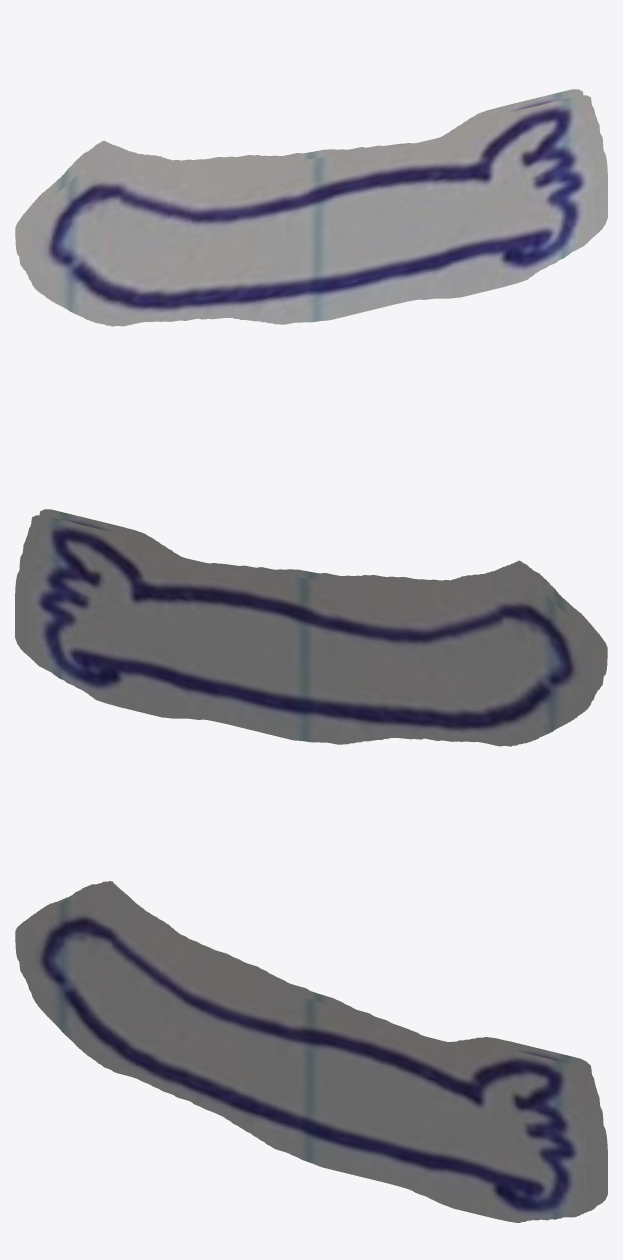
Rendered from arm.fbx.
3 views of the same model, one above another, from view 1: azimuth 30°, elevation 25°; view 2: azimuth 150°, elevation 25°; view 3: azimuth 330°, elevation 25° (orthographic).
Parts seen in each view (by area): view 1: Plane; view 2: Plane; view 3: Plane.
Part boxes in pixels (bbox=[...]): Plane: bbox=[15, 89, 607, 326]; Plane: bbox=[15, 509, 607, 746]; Plane: bbox=[15, 881, 607, 1222].
Bounding box in the file's own units: 811 × 321 × 19.3.
Materials: 1 (1 with a texture image).
